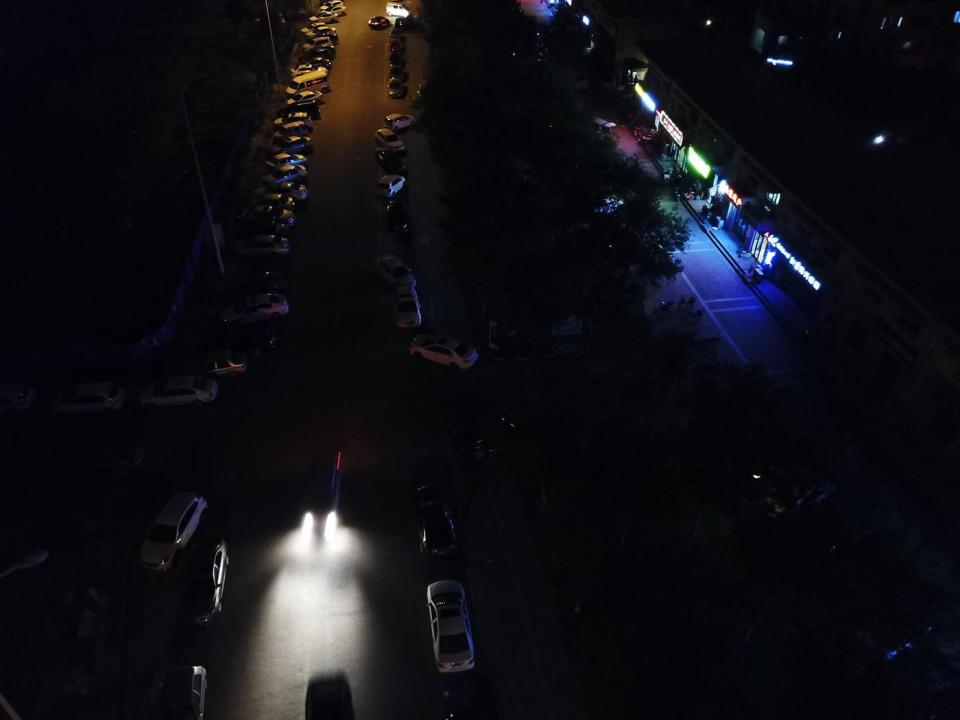car: (135, 487, 209, 571), (423, 578, 481, 674), (295, 444, 345, 542), (179, 538, 232, 626), (407, 480, 462, 556), (758, 475, 842, 523), (454, 412, 543, 457), (137, 374, 218, 409), (409, 330, 478, 370), (160, 664, 209, 720), (50, 381, 126, 416), (69, 440, 146, 472), (216, 293, 289, 326), (178, 350, 248, 381), (220, 329, 279, 360), (374, 252, 419, 290), (230, 235, 291, 260), (392, 283, 422, 329), (238, 270, 288, 293), (240, 207, 296, 227), (254, 183, 308, 203), (261, 165, 308, 186), (267, 135, 314, 156), (243, 220, 291, 239), (386, 198, 412, 232), (376, 147, 406, 174), (278, 100, 319, 119), (265, 153, 308, 171), (248, 195, 296, 211), (374, 128, 404, 153), (374, 174, 405, 198), (564, 64, 590, 91), (285, 90, 323, 108), (274, 114, 312, 131), (381, 112, 416, 129), (290, 64, 329, 79), (250, 12, 286, 28), (394, 16, 424, 34), (300, 37, 334, 51), (386, 74, 405, 99), (300, 49, 332, 63), (298, 58, 331, 71), (305, 26, 337, 39), (300, 22, 332, 35), (415, 82, 435, 102), (308, 33, 340, 45), (368, 13, 390, 30), (308, 12, 338, 24), (309, 45, 336, 58), (321, 6, 348, 17), (387, 63, 405, 79), (321, 1, 345, 11), (386, 52, 403, 66), (387, 27, 402, 41), (389, 38, 402, 53)
van: (286, 71, 330, 96), (580, 111, 615, 137), (273, 121, 309, 142), (385, 1, 411, 18)
